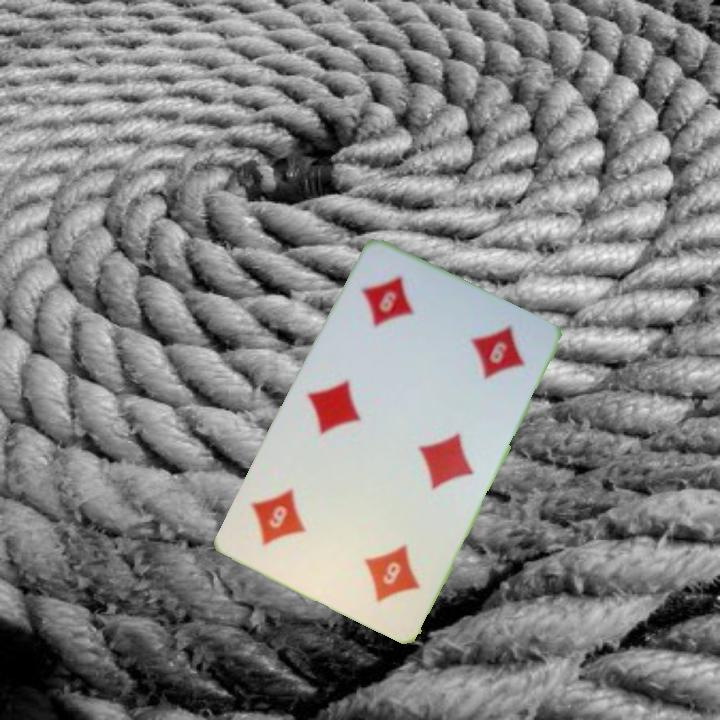d_6.png: (316, 507, 442, 627), (336, 254, 462, 373)
